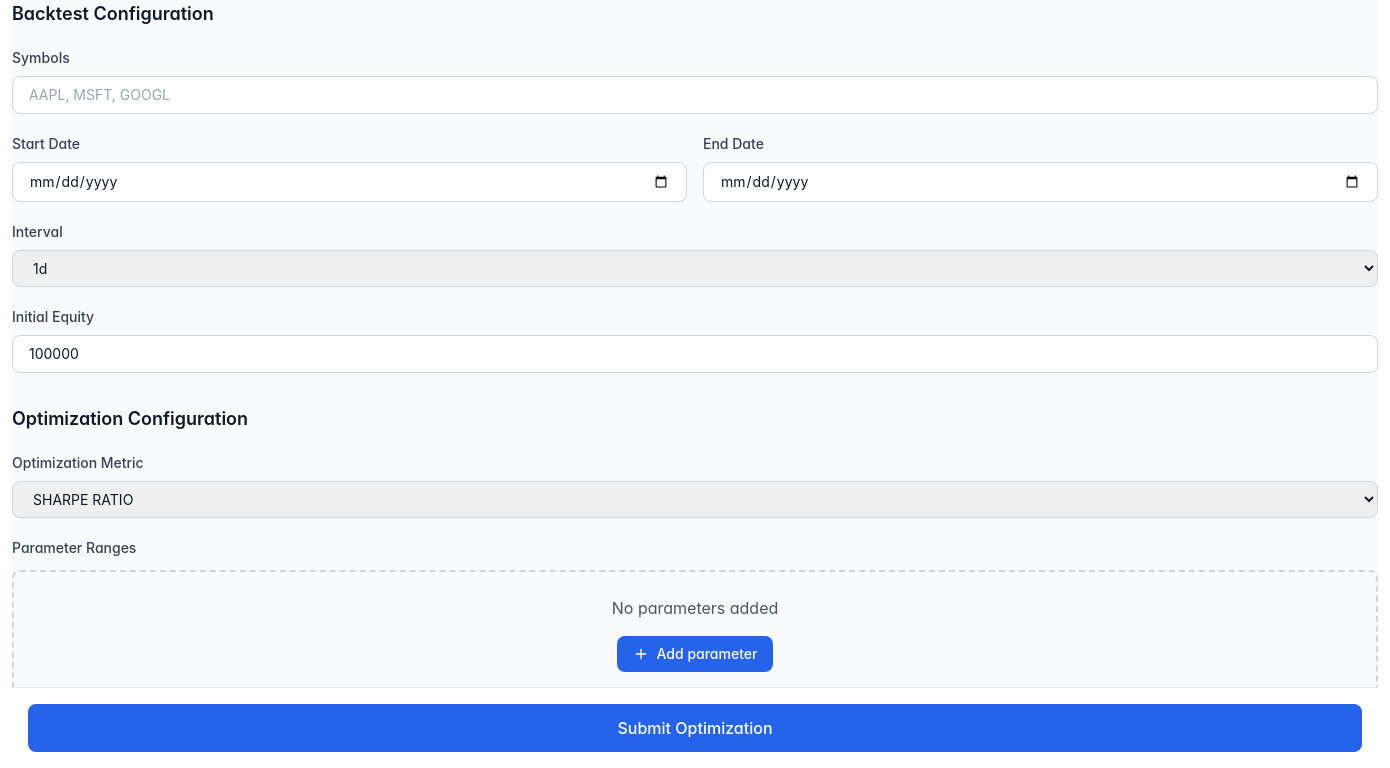
OptimizationForm › form validation › validates_at_least_one_parameter_required
The width and height of the screenshot is (1390, 768).
Note: Fill backtest fields
Type "AAPL" into the field with placeholder "AAPL, MSFT, GOOGL" at (695, 95), box [12, 76, 1378, 114]
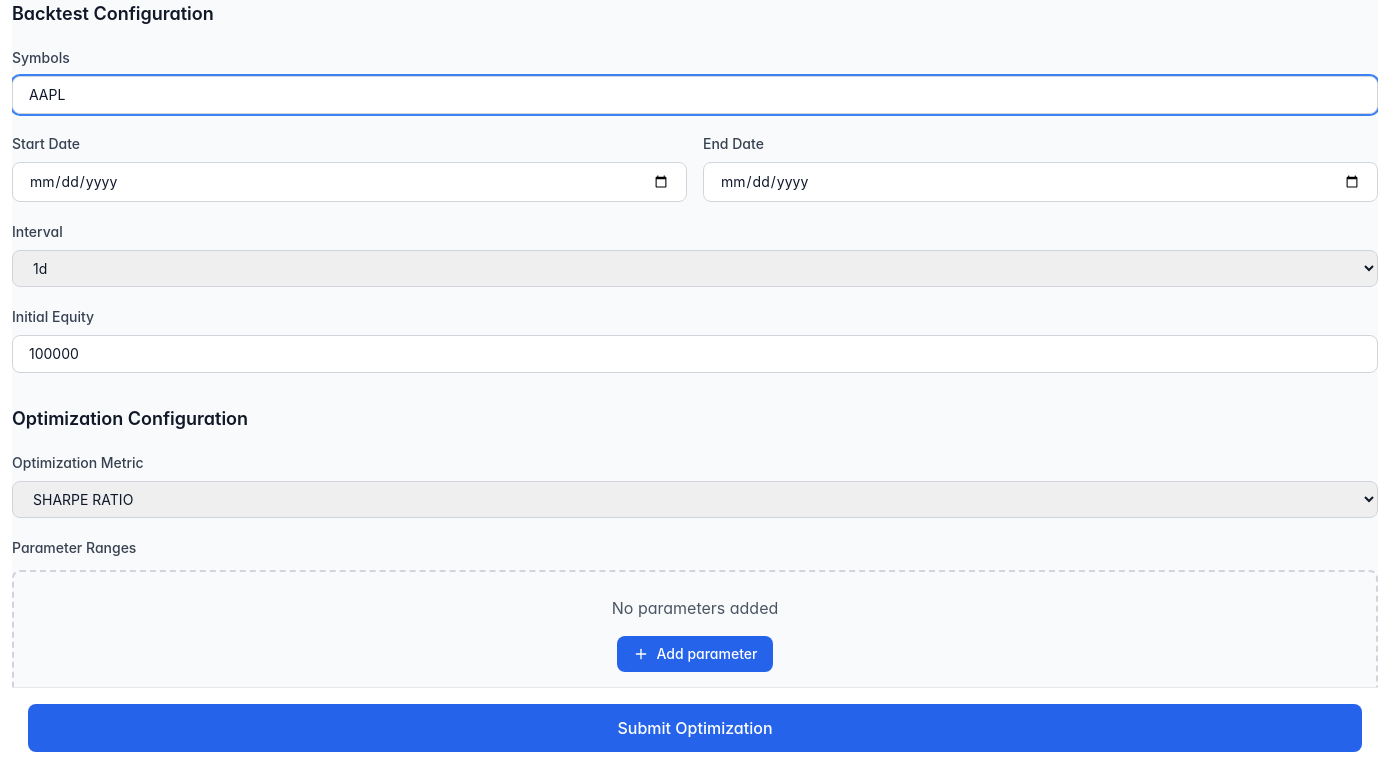
Note: Fill start and end date using query selector
Type "2024-01-01" into the date field below "Start Date" at (350, 182), box [12, 162, 687, 202]
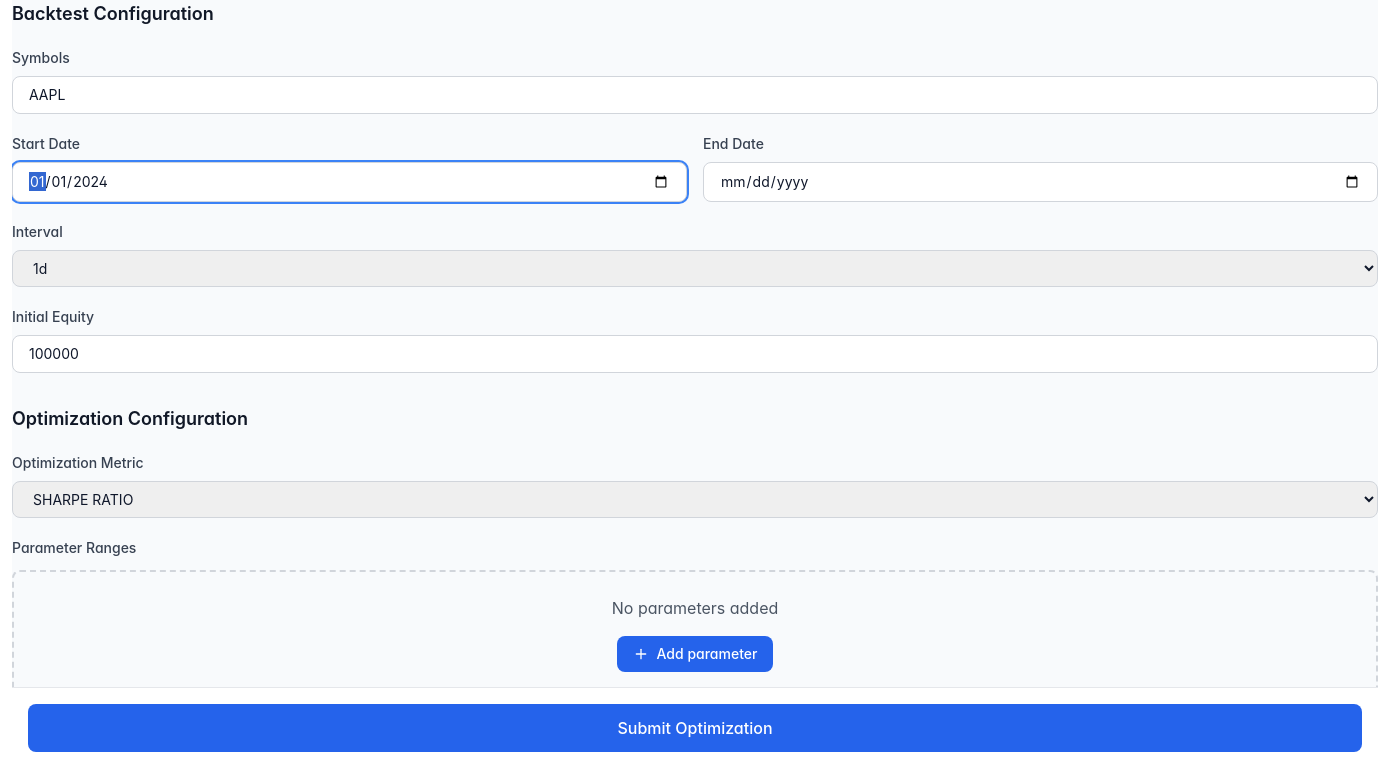
Type "2024-12-31" into the date field below "End Date" at (1040, 182), box [703, 162, 1378, 202]
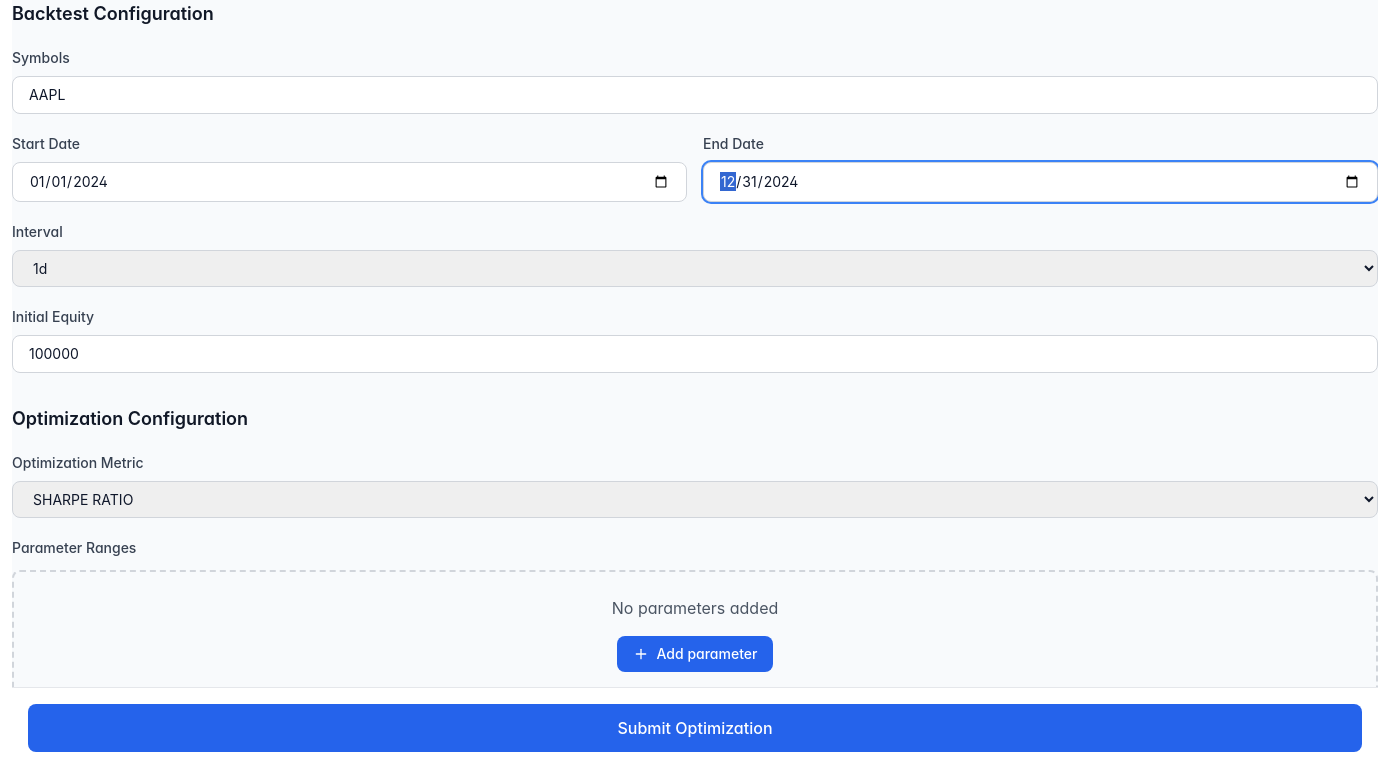
Click the button "Submit Optimization" at (695, 728), box [28, 704, 1362, 752]
(page scrolled)
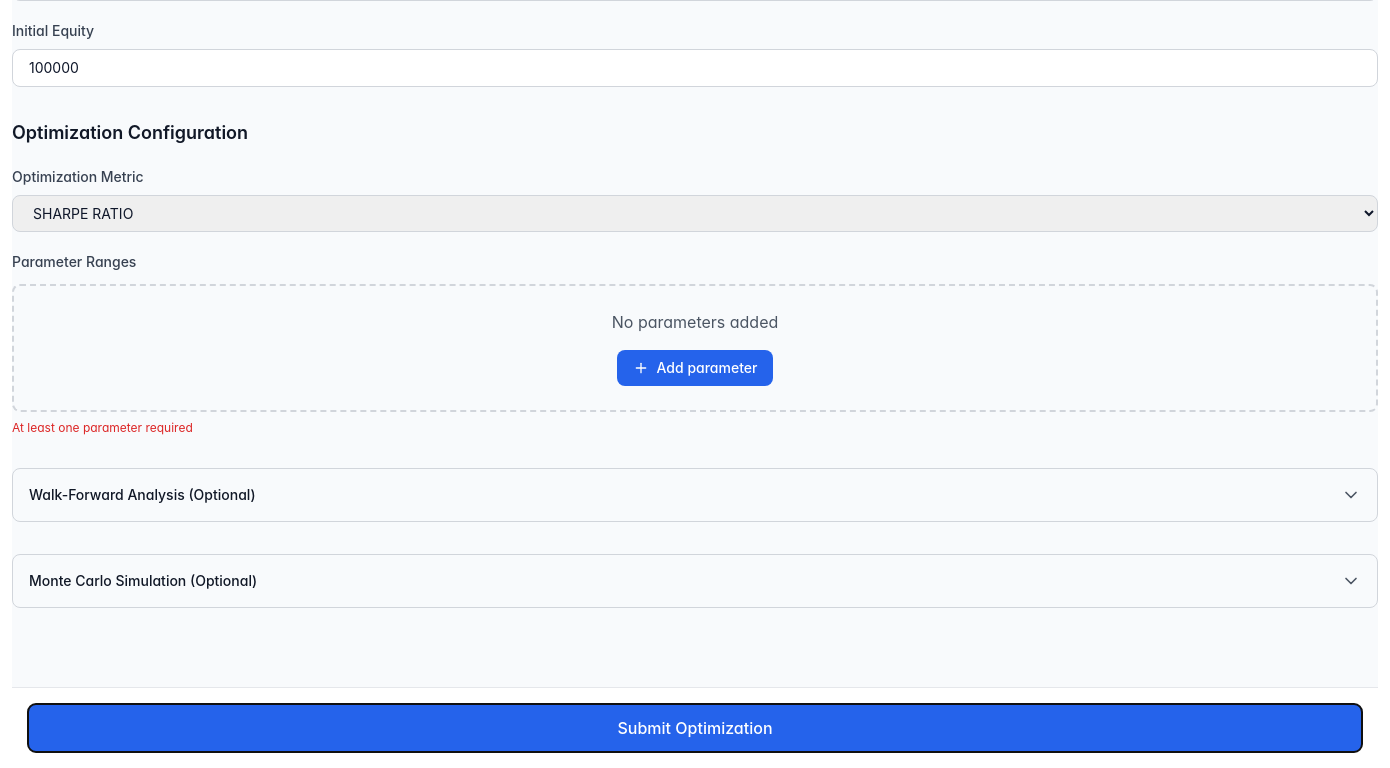
Expected: the text "At least one parameter required" is shown, [12, 420, 193, 435]
